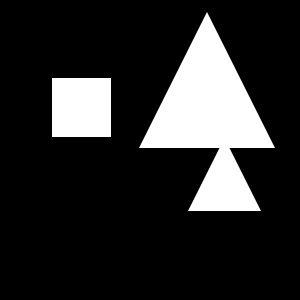circle: (52, 78, 111, 137)
triangle: (139, 12, 275, 148), (188, 138, 261, 211)
